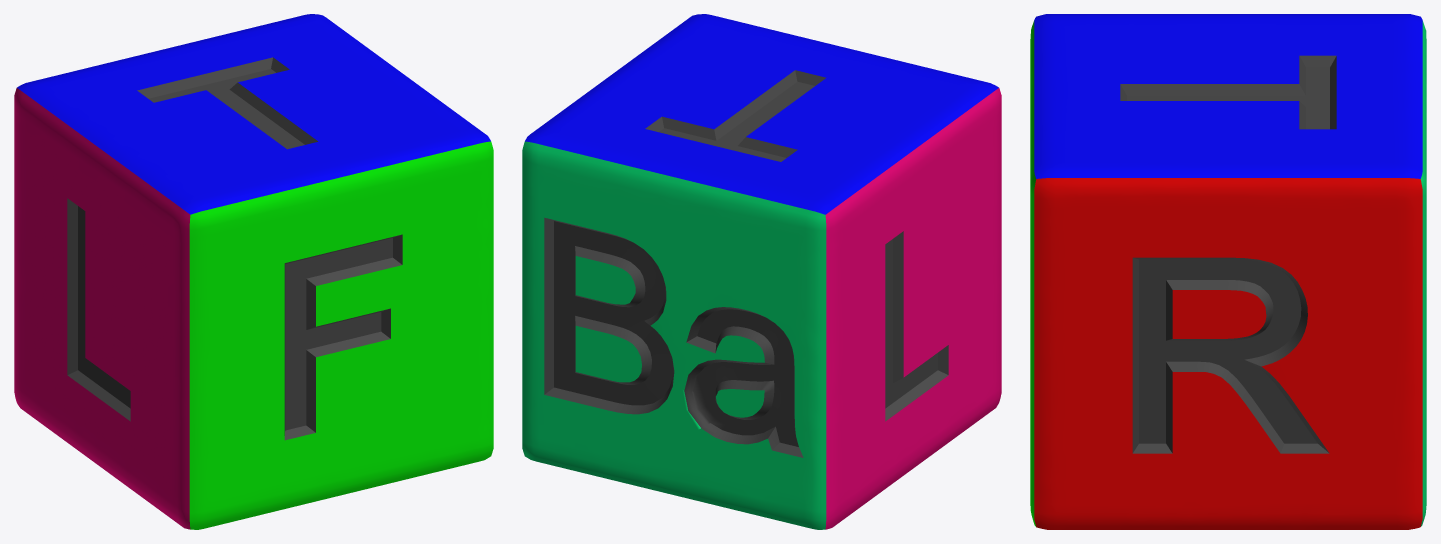
Rendered from 4-2-2_DirectionCube.fbx.
3 renders of one model, left to right at view 1: azimuth 30°, elevation 25°; view 2: azimuth 150°, elevation 25°; view 3: azimuth 270°, elevation 25°, orthographic. The views are drawn at different scales.
Parts seen in each view (by area): view 1: High_Cube; view 2: High_Cube; view 3: High_Cube.
Boxes of the visible parts, x1,y1,x2,y2 form: High_Cube: (14, 14, 493, 529); High_Cube: (522, 14, 1001, 529); High_Cube: (1030, 14, 1426, 529).
Size of the model in its own units: 100 by 100 by 100.
